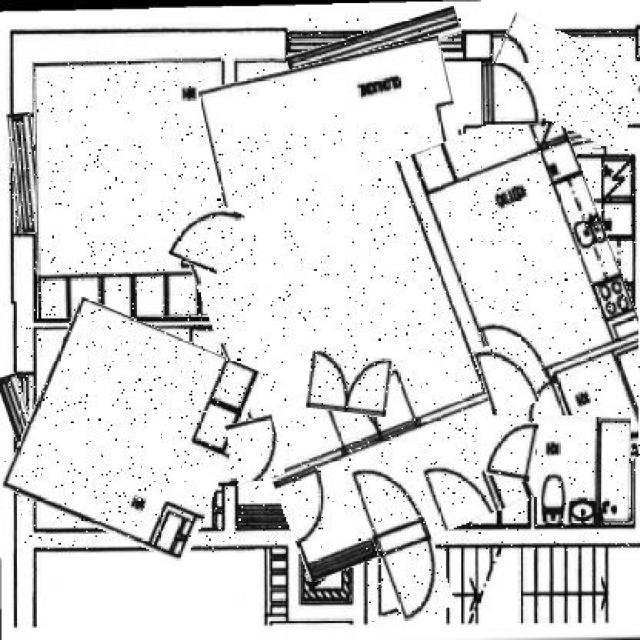door: (207, 129, 640, 552), (217, 48, 500, 420), (17, 312, 246, 550), (35, 59, 223, 318), (486, 24, 640, 136), (538, 417, 631, 523)
window: (363, 457, 443, 621), (310, 351, 392, 415), (171, 198, 240, 272), (477, 340, 534, 414), (482, 63, 538, 125), (228, 417, 282, 480), (486, 418, 537, 480)
zone: (286, 18, 462, 71), (5, 372, 43, 491), (10, 114, 38, 234), (518, 123, 604, 159)
